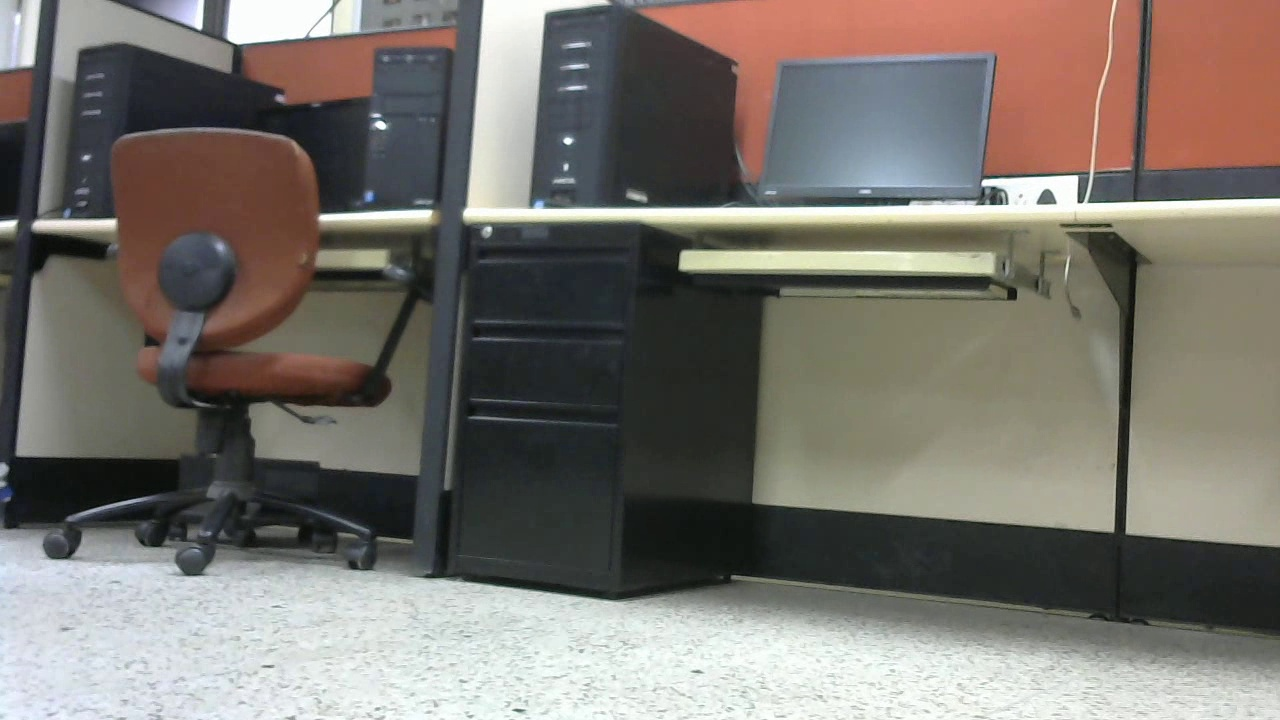chair: (43, 126, 423, 572)
